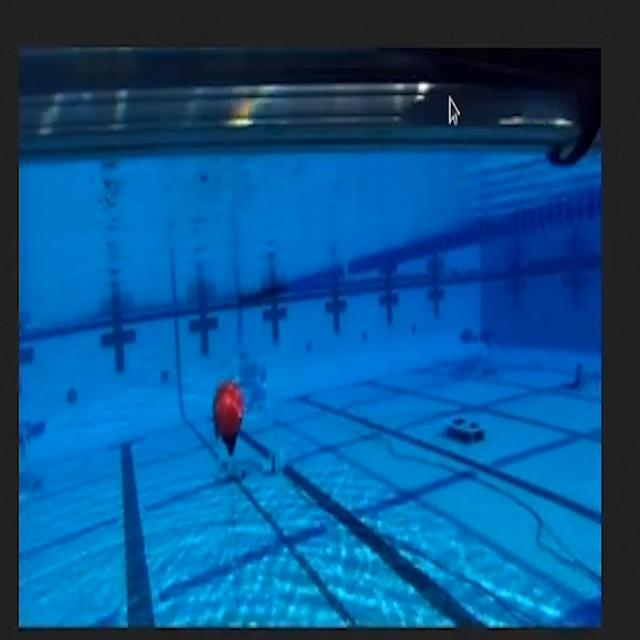Buoy: (197, 356, 268, 484)
